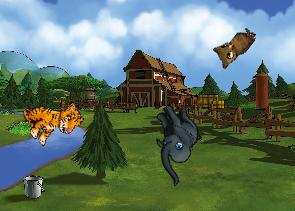elephant: (132, 97, 218, 186)
owl: (207, 18, 258, 72)
tiger: (17, 85, 86, 152)
